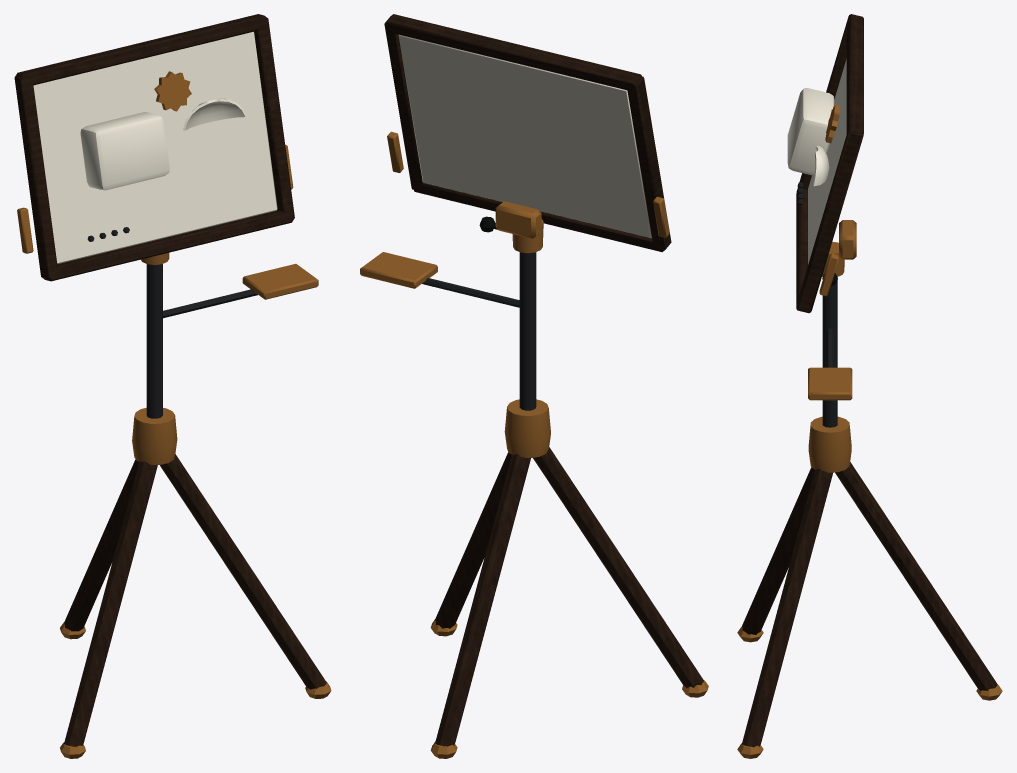
File: maker-progress-stand.lod0.glb
The picture shows the model from 3 angles, left to right: view 1: azimuth 30°, elevation 25°; view 2: azimuth 150°, elevation 25°; view 3: azimuth 270°, elevation 25°; orthographic projection. The views are drawn at different scales.
Visible parts, largest first — view 1: maker_progress_stand_Ceramic • warm ivory, maker_progress_stand_Timber • oiled walnut, maker_progress_stand_Trim • places palette; view 2: maker_progress_stand_Ceramic • warm ivory, maker_progress_stand_Timber • oiled walnut, maker_progress_stand_Trim • places palette; view 3: maker_progress_stand_Timber • oiled walnut, maker_progress_stand_Trim • places palette, maker_progress_stand_Ceramic • warm ivory.
Boxes of the visible parts, x1,y1,x2,y2 form: maker_progress_stand_Ceramic • warm ivory: (33, 31, 277, 263); maker_progress_stand_Timber • oiled walnut: (14, 14, 326, 746); maker_progress_stand_Trim • places palette: (17, 71, 331, 758); maker_progress_stand_Ceramic • warm ivory: (398, 34, 651, 238); maker_progress_stand_Timber • oiled walnut: (384, 14, 703, 746); maker_progress_stand_Trim • places palette: (360, 131, 708, 758); maker_progress_stand_Timber • oiled walnut: (742, 14, 997, 747); maker_progress_stand_Trim • places palette: (737, 104, 1002, 758); maker_progress_stand_Ceramic • warm ivory: (787, 59, 846, 264).
Size of the model in its own units: 0.7318 by 1.57 by 0.6.
3 materials, 2 textured.
